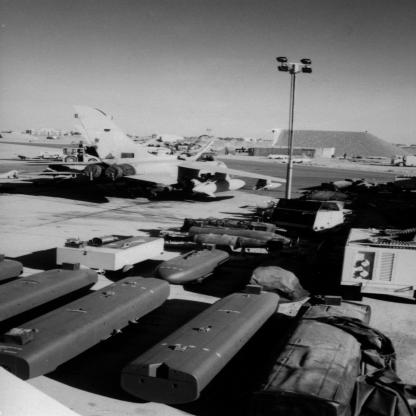Tornado: (18, 105, 288, 202), (74, 125, 178, 156), (164, 137, 220, 151)
